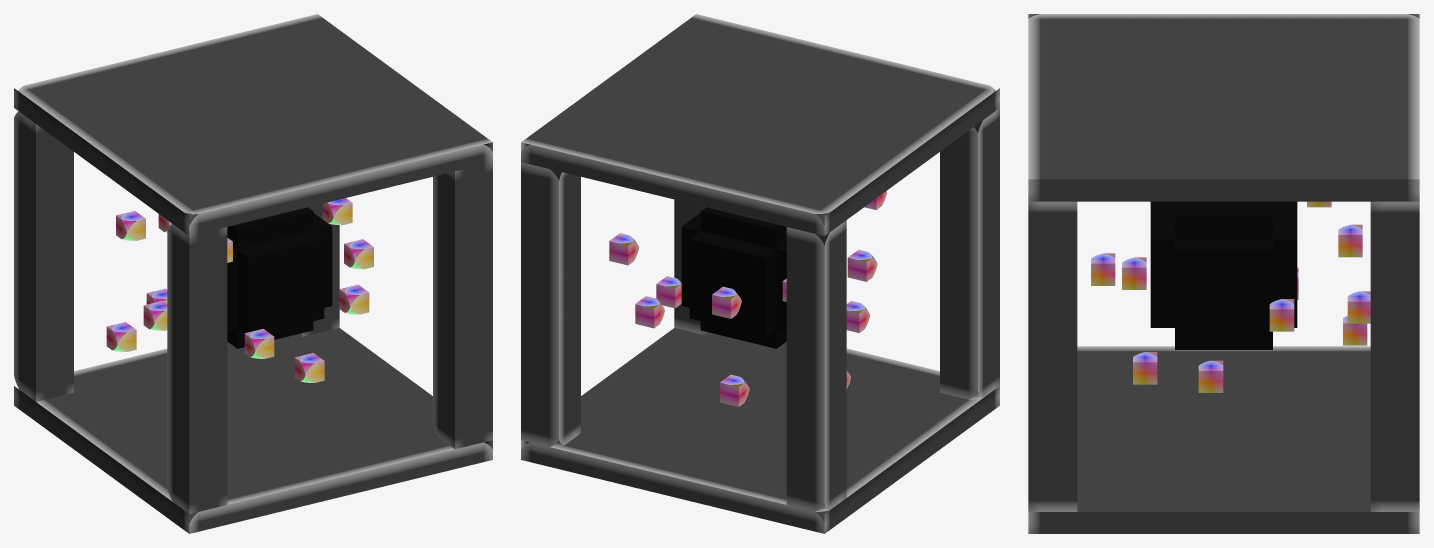
File: black hole.obj
3 renders of one model, left to right at view 1: azimuth 30°, elevation 25°; view 2: azimuth 150°, elevation 25°; view 3: azimuth 270°, elevation 25°, orthographic. The views are drawn at different scales.
Visible parts, largest first — view 1: polySurface1, pPlane1, polySurface2; view 2: polySurface1, pPlane1, polySurface2; view 3: polySurface1, pPlane1, polySurface2.
Boxes of the visible parts, x1=… form: polySurface1: x1=14, y1=14, x2=492, y2=533; pPlane1: x1=227, y1=207, x2=332, y2=348; polySurface2: x1=106, y1=198, x2=373, y2=382; polySurface1: x1=521, y1=14, x2=999, y2=533; pPlane1: x1=681, y1=207, x2=786, y2=348; polySurface2: x1=609, y1=191, x2=887, y2=406; polySurface1: x1=1028, y1=14, x2=1419, y2=533; pPlane1: x1=1150, y1=201, x2=1297, y2=349; polySurface2: x1=1091, y1=201, x2=1370, y2=392.
Bounding box in the file's own units: 2 × 2 × 2.
Materials: 1 (1 with a texture image).
